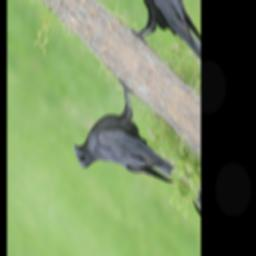Crow: (70, 56, 186, 241)
